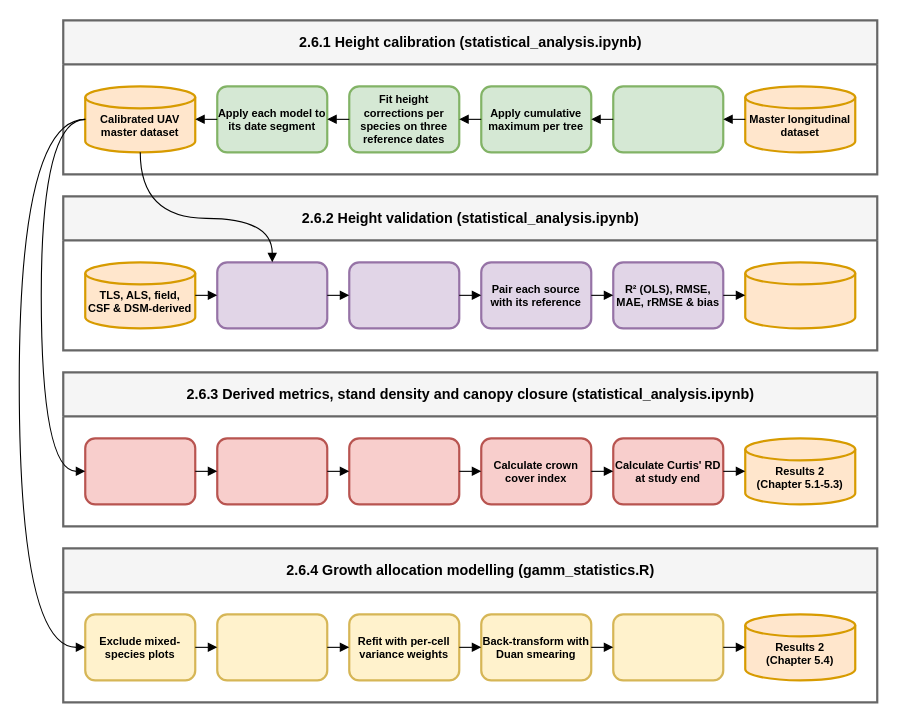
Image size: 898x722. Some labels were removed from this diagram. Here are the shapes that lost their labels. From the top down, the centre of each, then its label:
(668,119): Collapse duplicate rows; blank dead trees
(272,295): Fit pooled model & 5-fold cross-validation
(404,295): Keep each tree's out-of-sample height
(800,295): Results 1 (Chapter 3)
(140,471): Derive crown diameter, basal area & volume
(272,471): Adjust stems per hectare for mortality
(404,471): Calculate Reineke's SDI and RDI
(272,647): Fit bam() GAMMs: height, crown area & CA:H
(668,647): Compare pairs by delta method
